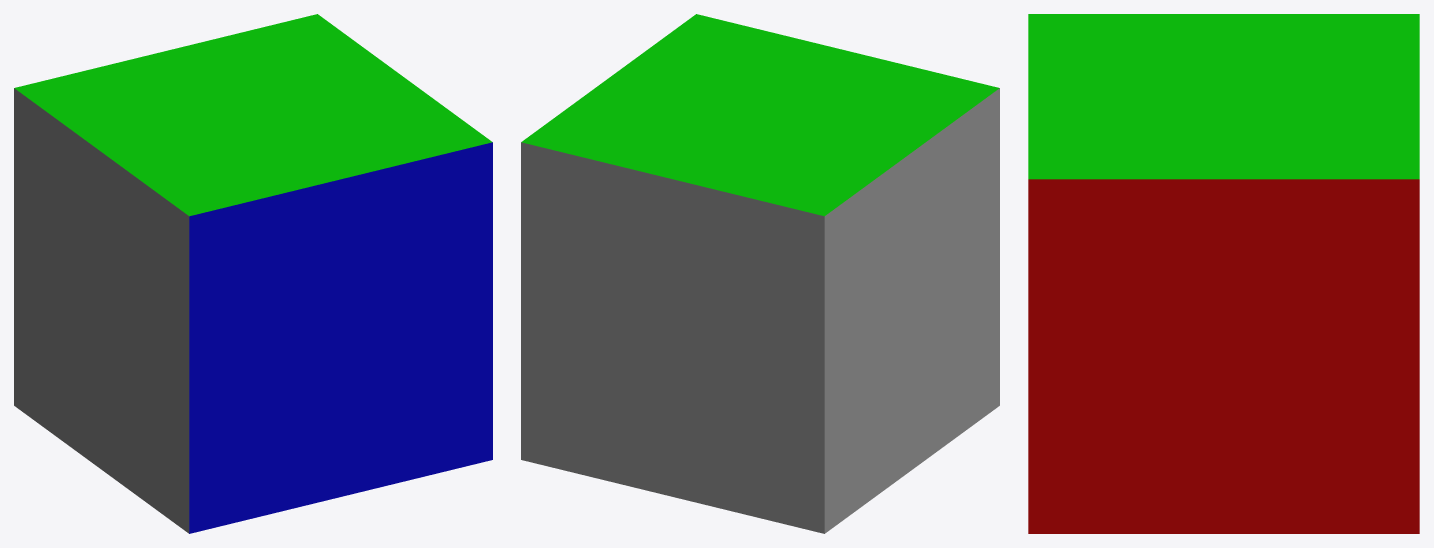
The model's file is simple_box_subdivided.obj.
The picture shows the model from 3 angles, left to right: view 1: azimuth 30°, elevation 25°; view 2: azimuth 150°, elevation 25°; view 3: azimuth 270°, elevation 25°; orthographic projection. The views are drawn at different scales.
Visible parts, largest first — view 1: Cube; view 2: Cube; view 3: Cube.
Part boxes in pixels (box(x1,y1,x2,y2)): Cube: box(14, 14, 492, 533); Cube: box(521, 14, 999, 533); Cube: box(1028, 14, 1419, 533).
Size of the model in its own units: 2 by 2 by 2.
